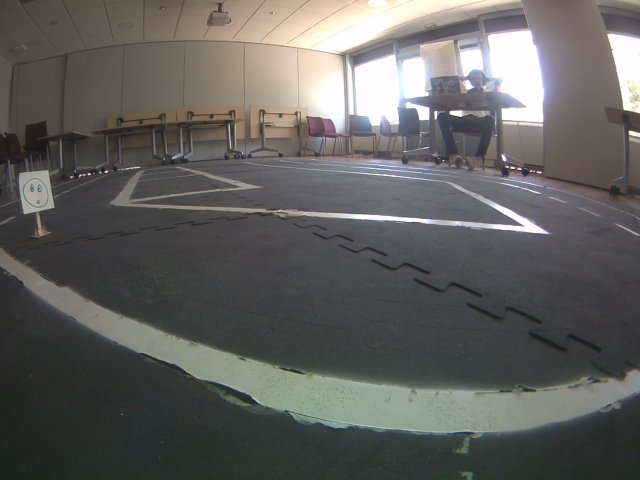Smiley: (16, 169, 57, 215)
